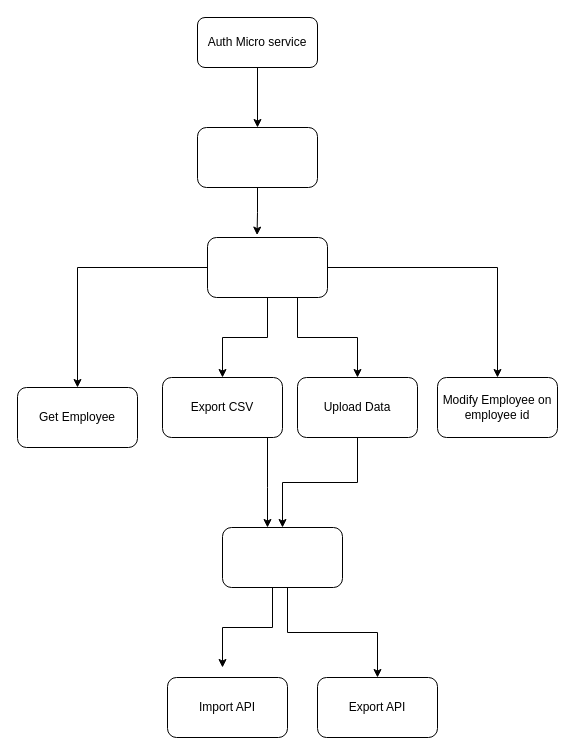
The diagram is 575 pixels wide and 755 high, and some of its shapes have lost their labels. Here are the shapes that lost their labels. From the top down, the centre of each, then its label:
the point at 257,157: login / logout / Auth
the point at 267,267: Case Study Module
the point at 282,557: File Processing micro service
